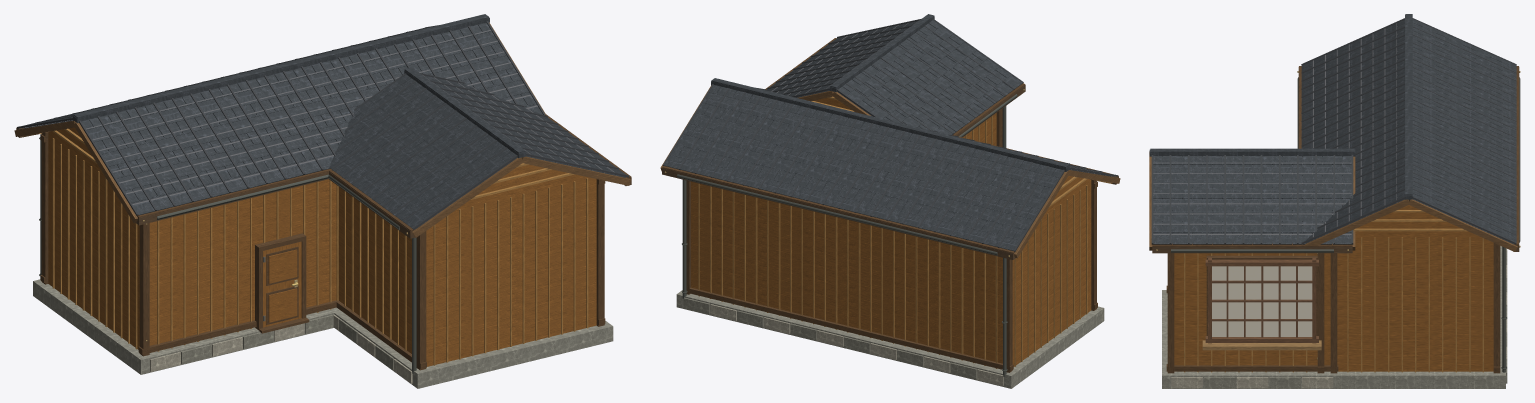
Rendered from base_bedroom-exterior-refined-v1.glb.
3 views of the same model, side by side, from view 1: azimuth 30°, elevation 25°; view 2: azimuth 150°, elevation 25°; view 3: azimuth 270°, elevation 25° (orthographic). The views are drawn at different scales.
Visible parts, largest first — view 1: base_bedroom_01_原有建筑轮廓与构件_EX_97632e_fine_grained_wood_surfac, base_bedroom_10_独立错缝瓦片_EX_41464b_dark_rock_surface, base_bedroom_01_原有建筑轮廓与构件_EX_ad8047_fine_grained_wood_surfac, base_bedroom_01_原有建筑轮廓与构件_EX_424548_plain_surface, base_bedroom_01_原有建筑轮廓与构件_EX_62482f_fine_grained_wood_surfac, base_bedroom_01_原有建筑轮廓与构件_EX_939184_dark_rock_surface, base_bedroom_01_原有建筑轮廓与构件_EX_41464b_dark_rock_surface, base_bedroom_01_原有建筑轮廓与构件_EX_66676a_plain_surface, base_bedroom_01_原有建筑轮廓与构件_EX_775838_fine_grained_wood_surfac, base_bedroom_01_原有建筑轮廓与构件_EX_565952_plain_surface, base_bedroom_01_原有建筑轮廓与构件_EX_aaa594_dark_rock_surface, base_bedroom_01_原有建筑轮廓与构件_EX_8b8a7c_dark_rock_surface (+2 smaller); view 2: base_bedroom_10_独立错缝瓦片_EX_41464b_dark_rock_surface, base_bedroom_01_原有建筑轮廓与构件_EX_97632e_fine_grained_wood_surfac, base_bedroom_01_原有建筑轮廓与构件_EX_ad8047_fine_grained_wood_surfac, base_bedroom_01_原有建筑轮廓与构件_EX_424548_plain_surface, base_bedroom_01_原有建筑轮廓与构件_EX_62482f_fine_grained_wood_surfac, base_bedroom_01_原有建筑轮廓与构件_EX_939184_dark_rock_surface, base_bedroom_01_原有建筑轮廓与构件_EX_41464b_dark_rock_surface, base_bedroom_01_原有建筑轮廓与构件_EX_565952_plain_surface, base_bedroom_01_原有建筑轮廓与构件_EX_604a35_fine_grained_wood_surfac, base_bedroom_01_原有建筑轮廓与构件_EX_aaa594_dark_rock_surface, base_bedroom_01_原有建筑轮廓与构件_EX_8b8a7c_dark_rock_surface, base_bedroom_01_原有建筑轮廓与构件_EX_775838_fine_grained_wood_surfac (+2 smaller); view 3: base_bedroom_10_独立错缝瓦片_EX_41464b_dark_rock_surface, base_bedroom_01_原有建筑轮廓与构件_EX_97632e_fine_grained_wood_surfac, base_bedroom_01_原有建筑轮廓与构件_EX_424548_plain_surface, base_bedroom_01_原有建筑轮廓与构件_EX_62482f_fine_grained_wood_surfac, base_bedroom_03_窗面与灯具_EX_e6deca_Paper001_window, base_bedroom_01_原有建筑轮廓与构件_EX_939184_dark_rock_surface, base_bedroom_01_原有建筑轮廓与构件_EX_ad8047_fine_grained_wood_surfac, base_bedroom_01_原有建筑轮廓与构件_EX_66676a_plain_surface, base_bedroom_01_原有建筑轮廓与构件_EX_41464b_dark_rock_surface, base_bedroom_01_原有建筑轮廓与构件_EX_72523a_fine_grained_wood_surfac, base_bedroom_01_原有建筑轮廓与构件_EX_775838_fine_grained_wood_surfac, base_bedroom_01_原有建筑轮廓与构件_EX_71533d_fine_grained_wood_surfac (+6 smaller).
Boxes of the visible parts, bbox=[...] form: base_bedroom_01_原有建筑轮廓与构件_EX_97632e_fine_grained_wood_surfac: bbox=[48, 127, 596, 366]; base_bedroom_10_独立错缝瓦片_EX_41464b_dark_rock_surface: bbox=[23, 23, 625, 228]; base_bedroom_01_原有建筑轮廓与构件_EX_ad8047_fine_grained_wood_surfac: bbox=[52, 128, 588, 365]; base_bedroom_01_原有建筑轮廓与构件_EX_424548_plain_surface: bbox=[17, 21, 629, 229]; base_bedroom_01_原有建筑轮廓与构件_EX_62482f_fine_grained_wood_surfac: bbox=[16, 114, 631, 370]; base_bedroom_01_原有建筑轮廓与构件_EX_939184_dark_rock_surface: bbox=[33, 279, 613, 388]; base_bedroom_01_原有建筑轮廓与构件_EX_41464b_dark_rock_surface: bbox=[73, 14, 525, 158]; base_bedroom_01_原有建筑轮廓与构件_EX_66676a_plain_surface: bbox=[24, 30, 617, 222]; base_bedroom_01_原有建筑轮廓与构件_EX_775838_fine_grained_wood_surfac: bbox=[14, 22, 631, 237]; base_bedroom_01_原有建筑轮廓与构件_EX_565952_plain_surface: bbox=[40, 133, 416, 373]; base_bedroom_01_原有建筑轮廓与构件_EX_aaa594_dark_rock_surface: bbox=[150, 315, 412, 383]; base_bedroom_01_原有建筑轮廓与构件_EX_8b8a7c_dark_rock_surface: bbox=[181, 314, 394, 370]; base_bedroom_10_独立错缝瓦片_EX_41464b_dark_rock_surface: bbox=[663, 20, 1113, 250]; base_bedroom_01_原有建筑轮廓与构件_EX_97632e_fine_grained_wood_surfac: bbox=[691, 98, 1091, 366]; base_bedroom_01_原有建筑轮廓与构件_EX_ad8047_fine_grained_wood_surfac: bbox=[698, 96, 1087, 368]; base_bedroom_01_原有建筑轮廓与构件_EX_424548_plain_surface: bbox=[663, 19, 1118, 251]; base_bedroom_01_原有建筑轮廓与构件_EX_62482f_fine_grained_wood_surfac: bbox=[662, 38, 1118, 372]; base_bedroom_01_原有建筑轮廓与构件_EX_939184_dark_rock_surface: bbox=[676, 290, 1104, 388]; base_bedroom_01_原有建筑轮廓与构件_EX_41464b_dark_rock_surface: bbox=[711, 14, 1069, 171]; base_bedroom_01_原有建筑轮廓与构件_EX_565952_plain_surface: bbox=[677, 94, 1017, 376]; base_bedroom_01_原有建筑轮廓与构件_EX_604a35_fine_grained_wood_surfac: bbox=[662, 85, 1118, 259]; base_bedroom_01_原有建筑轮廓与构件_EX_aaa594_dark_rock_surface: bbox=[710, 304, 1003, 386]; base_bedroom_01_原有建筑轮廓与构件_EX_8b8a7c_dark_rock_surface: bbox=[683, 297, 976, 379]; base_bedroom_01_原有建筑轮廓与构件_EX_775838_fine_grained_wood_surfac: bbox=[660, 83, 1120, 258]; base_bedroom_10_独立错缝瓦片_EX_41464b_dark_rock_surface: bbox=[1152, 19, 1516, 244]; base_bedroom_01_原有建筑轮廓与构件_EX_97632e_fine_grained_wood_surfac: bbox=[1174, 205, 1493, 371]; base_bedroom_01_原有建筑轮廓与构件_EX_424548_plain_surface: bbox=[1151, 18, 1516, 244]; base_bedroom_01_原有建筑轮廓与构件_EX_62482f_fine_grained_wood_surfac: bbox=[1152, 66, 1518, 373]; base_bedroom_03_窗面与灯具_EX_e6deca_Paper001_window: bbox=[1212, 266, 1312, 336]; base_bedroom_01_原有建筑轮廓与构件_EX_939184_dark_rock_surface: bbox=[1162, 246, 1505, 388]; base_bedroom_01_原有建筑轮廓与构件_EX_ad8047_fine_grained_wood_surfac: bbox=[1184, 210, 1483, 372]; base_bedroom_01_原有建筑轮廓与构件_EX_66676a_plain_surface: bbox=[1153, 23, 1504, 239]; base_bedroom_01_原有建筑轮廓与构件_EX_41464b_dark_rock_surface: bbox=[1149, 14, 1412, 199]; base_bedroom_01_原有建筑轮廓与构件_EX_72523a_fine_grained_wood_surfac: bbox=[1205, 257, 1318, 343]; base_bedroom_01_原有建筑轮廓与构件_EX_775838_fine_grained_wood_surfac: bbox=[1149, 151, 1517, 251]; base_bedroom_01_原有建筑轮廓与构件_EX_71533d_fine_grained_wood_surfac: bbox=[1212, 266, 1312, 337].
Bounding box in the file's own units: 14.52 × 7.43 × 12.52.
22 materials, 14 textured.
